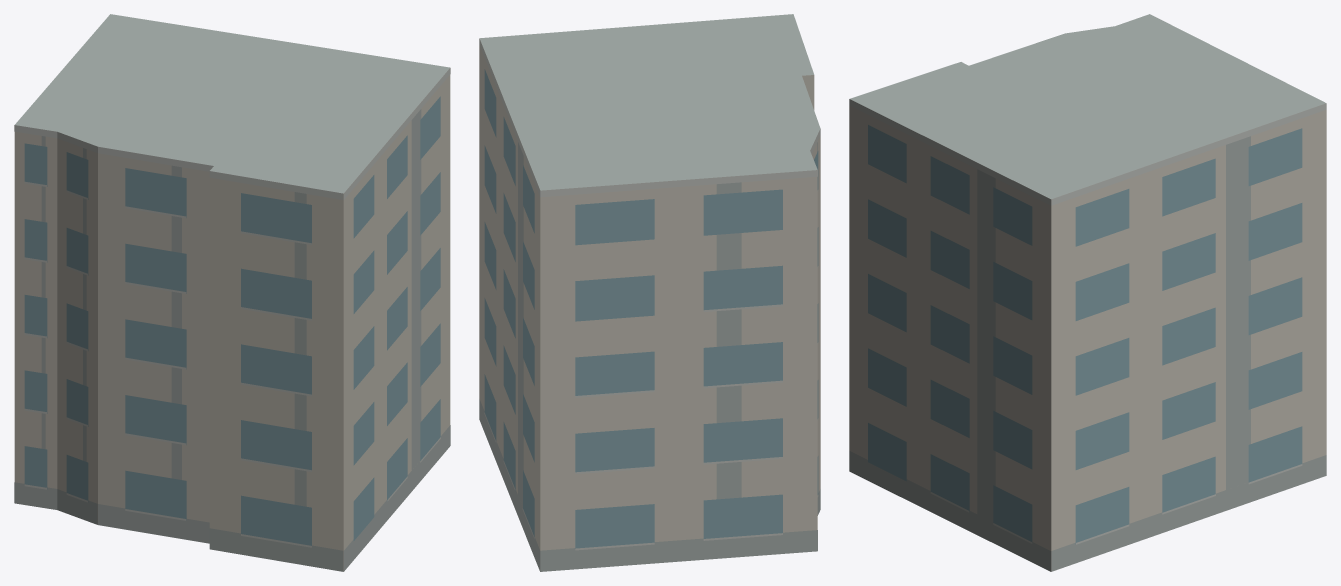
The model's file is survey-upis-32850437.glb.
3 renders of one model, left to right at view 1: azimuth 30°, elevation 25°; view 2: azimuth 150°, elevation 25°; view 3: azimuth 270°, elevation 25°, orthographic. The views are drawn at different scales.
Parts seen in each view (by area): view 1: survey-upis-32850437.tmp; view 2: survey-upis-32850437.tmp; view 3: survey-upis-32850437.tmp.
Part boxes in pixels (x1,y1,x2,y2): survey-upis-32850437.tmp: (14, 14, 450, 571); survey-upis-32850437.tmp: (479, 14, 820, 571); survey-upis-32850437.tmp: (849, 14, 1326, 571).
Bounding box in the file's own units: 14.84 × 13.9 × 16.15.
